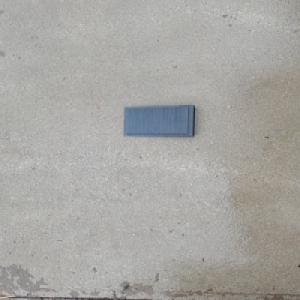PlasticPart: (121, 103, 197, 137)
